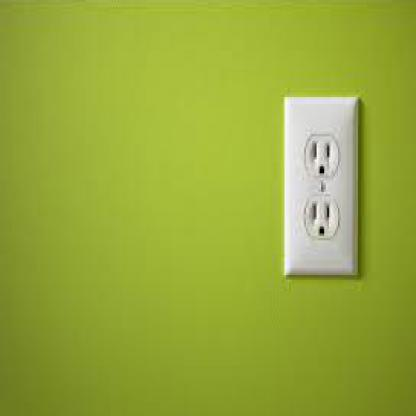OUTLET: (283, 97, 358, 275)
